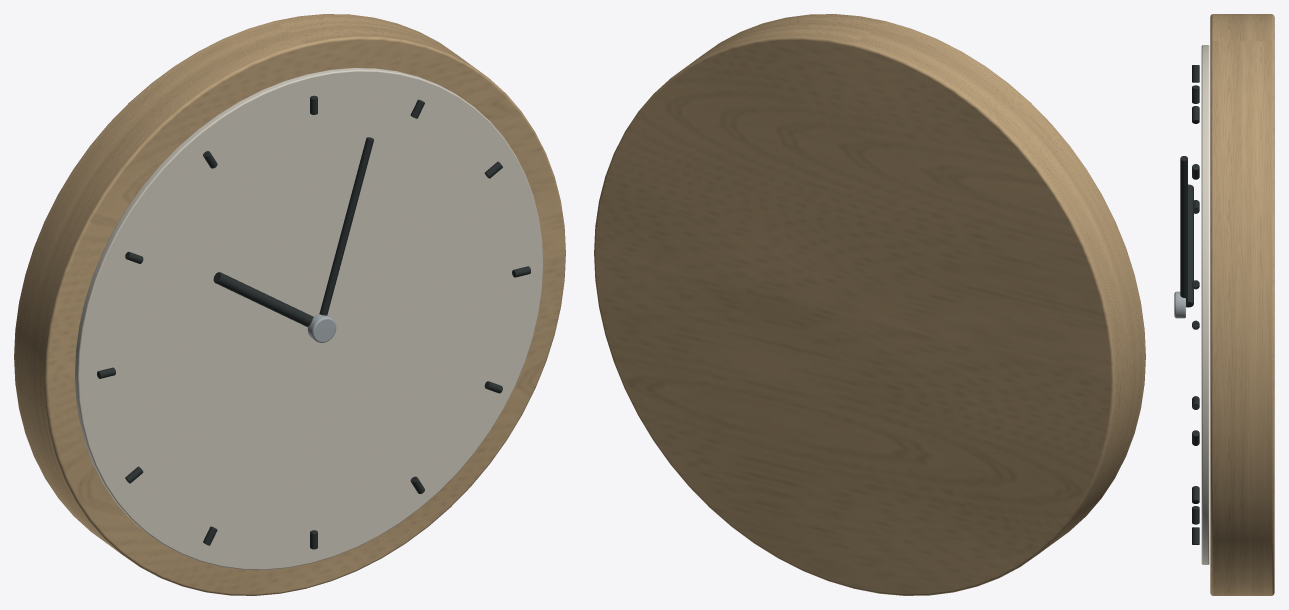
Rendered from innerscene-clock-angular.glb.
3 renders of one model, left to right at view 1: azimuth 30°, elevation 25°; view 2: azimuth 150°, elevation 25°; view 3: azimuth 270°, elevation 25°, orthographic. The views are drawn at different scales.
Parts seen in each view (by area): view 1: Ivory clock dial, Clock wooden rim, Minute hand, Hour hand; view 2: Clock wooden rim; view 3: Clock wooden rim, Ivory clock dial, Minute hand, Hour hand, Clock hand hub.
Part boxes in pixels (x1,y1,x2,y2): Ivory clock dial: (75, 68, 543, 569); Clock wooden rim: (14, 14, 565, 595); Minute hand: (319, 137, 373, 315); Hour hand: (213, 272, 313, 326); Clock wooden rim: (594, 14, 1145, 595); Clock wooden rim: (1210, 14, 1274, 595); Ivory clock dial: (1201, 45, 1209, 564); Minute hand: (1180, 156, 1187, 306); Hour hand: (1186, 184, 1193, 307); Clock hand hub: (1174, 291, 1185, 318).
Bounding box in the file's own units: 0.3 × 0.3 × 0.0515.
Materials: 4 (4 with a texture image).
